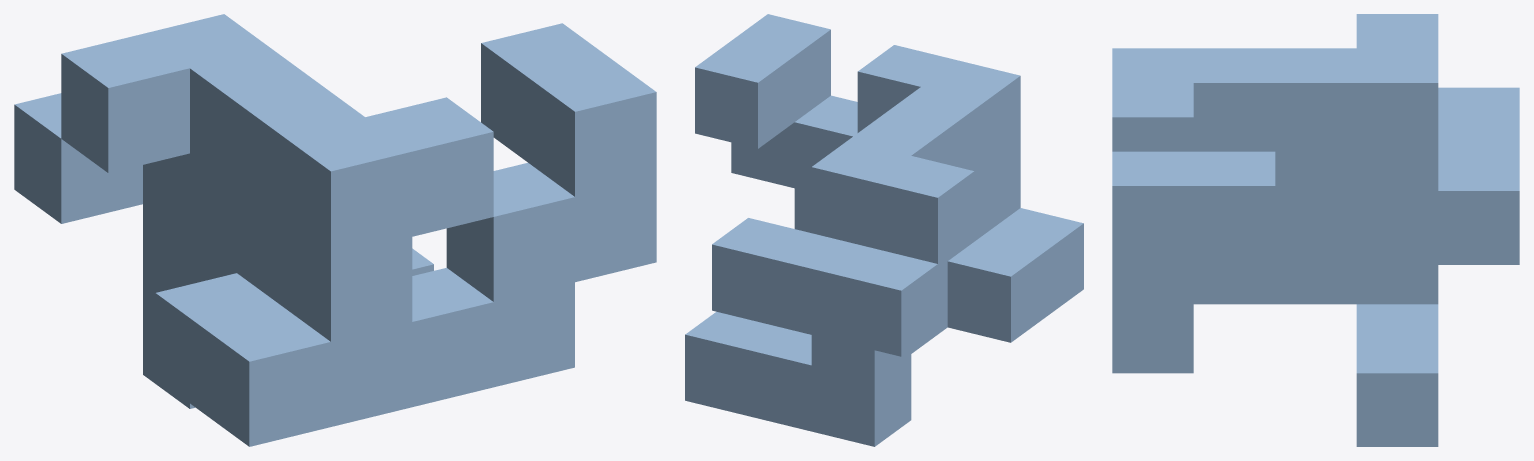
3 views of the same model, side by side, from view 1: azimuth 30°, elevation 25°; view 2: azimuth 150°, elevation 25°; view 3: azimuth 270°, elevation 25° (orthographic). The views are drawn at different scales.
Visible parts, largest first — view 1: _changes (2).017; view 2: _changes (2).017; view 3: _changes (2).017.
Boxes of the visible parts, left/top/right/bottom form: _changes (2).017: left=14, top=14, right=656, bottom=446; _changes (2).017: left=685, top=14, right=1083, bottom=446; _changes (2).017: left=1112, top=14, right=1519, bottom=446.
Size of the model in its own units: 0.1999 by 0.1599 by 0.1999.
